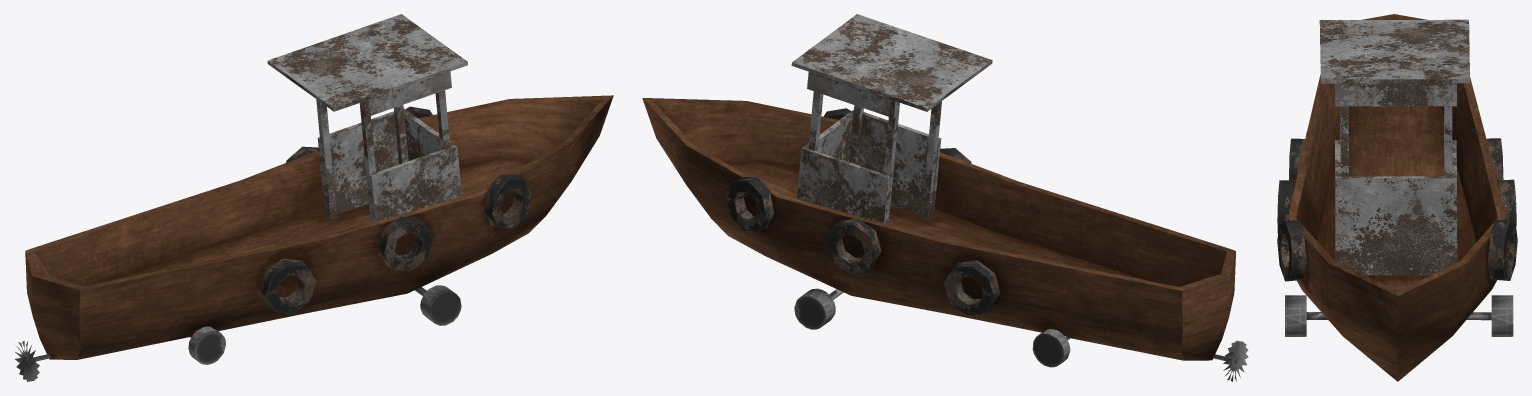
The model's file is Bote 0 TXT.fbx.
3 renders of one model, left to right at view 1: azimuth 30°, elevation 25°; view 2: azimuth 150°, elevation 25°; view 3: azimuth 270°, elevation 25°, orthographic. The views are drawn at different scales.
Visible parts, largest first — view 1: Cylinder695; view 2: Cylinder695; view 3: Cylinder695.
Part boxes in pixels (box(x1,y1,x2,y2)): Cylinder695: box(14, 14, 613, 381); Cylinder695: box(642, 14, 1248, 381); Cylinder695: box(1277, 14, 1517, 381).
Bounding box in the file's own units: 102 × 40.12 × 31.61.
5 materials, 5 textured.
